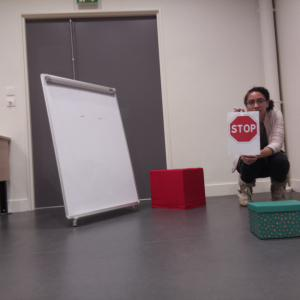stop: (230, 116, 257, 143)
